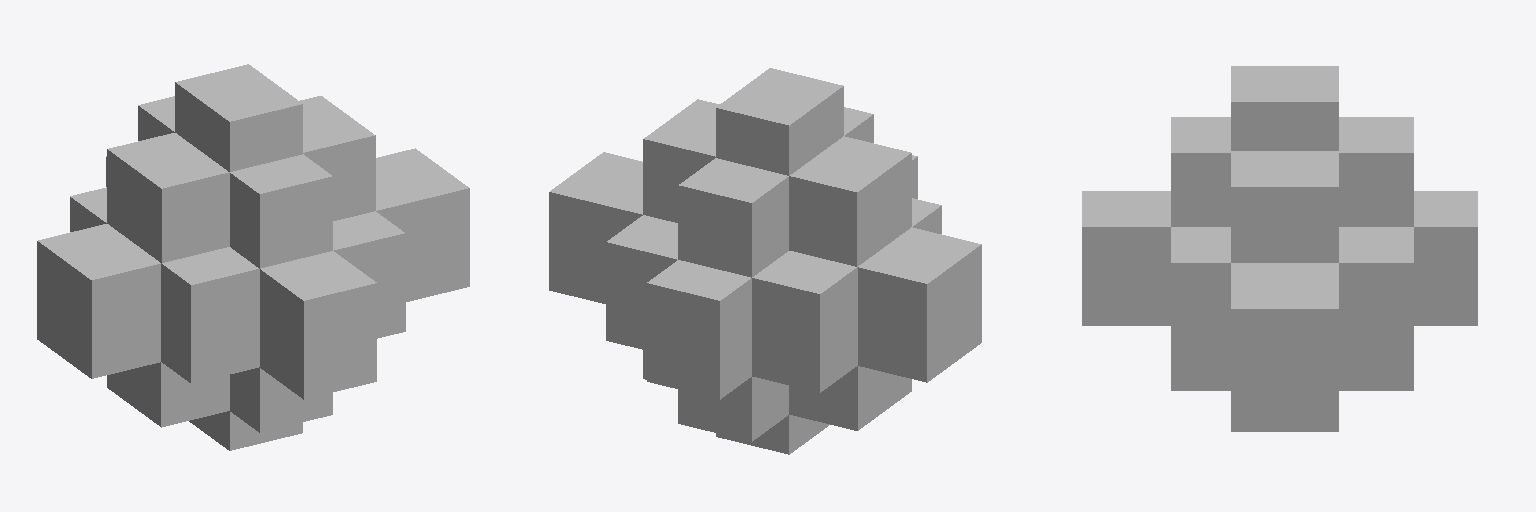
Rendered from clouds.obj.
The picture shows the model from 3 angles: view 1: azimuth 30°, elevation 25°; view 2: azimuth 150°, elevation 25°; view 3: azimuth 270°, elevation 25°; orthographic projection.
Parts seen in each view (by area): view 1: Cube; view 2: Cube; view 3: Cube.
Boxes of the visible parts, x1=… form: Cube: x1=37, y1=64, x2=469, y2=450; Cube: x1=549, y1=68, x2=981, y2=454; Cube: x1=1082, y1=66, x2=1477, y2=431.
Bounding box in the file's own units: 8.02 × 6.67 × 7.26.